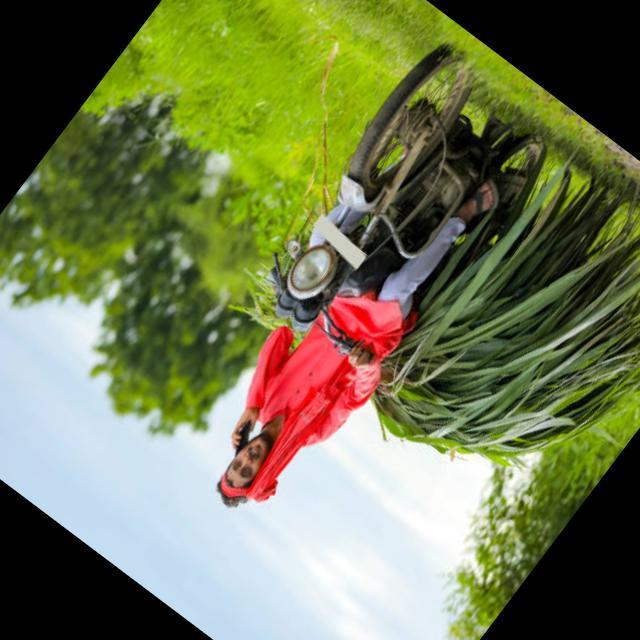USING_MOBILE: (189, 316, 321, 466)
